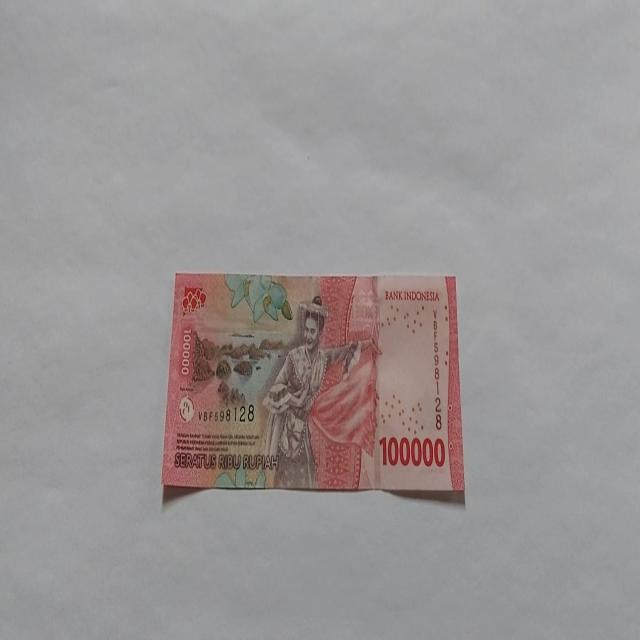seratus ribu rupiah: (161, 271, 465, 499), (258, 294, 360, 489)
